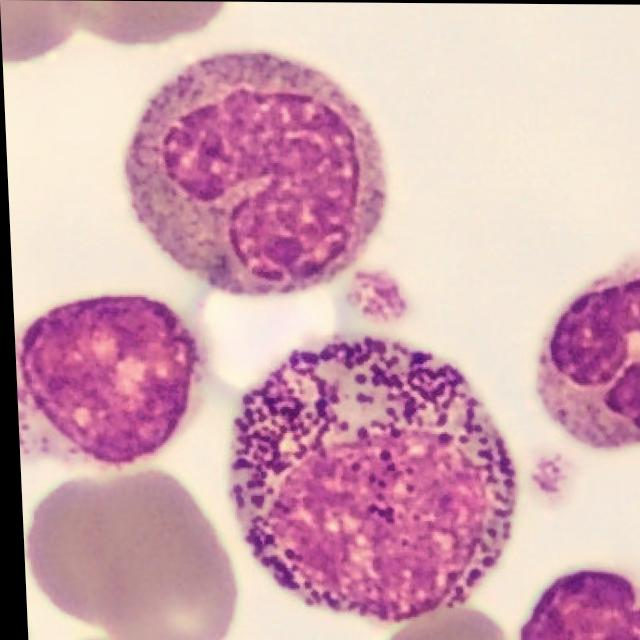Bastonete: (122, 50, 386, 297)
Promielocito: (226, 339, 514, 622)
